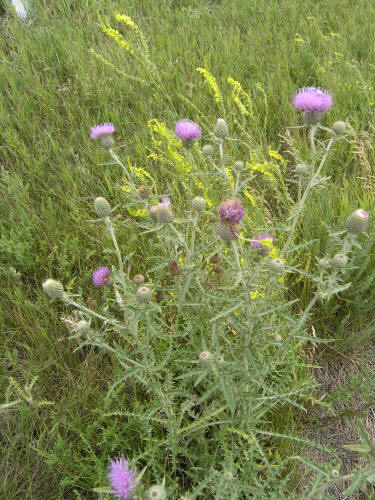thistle: (286, 88, 336, 129), (99, 460, 146, 497), (213, 195, 247, 245), (82, 121, 118, 156), (340, 209, 372, 240), (174, 118, 200, 152), (91, 265, 117, 290)
